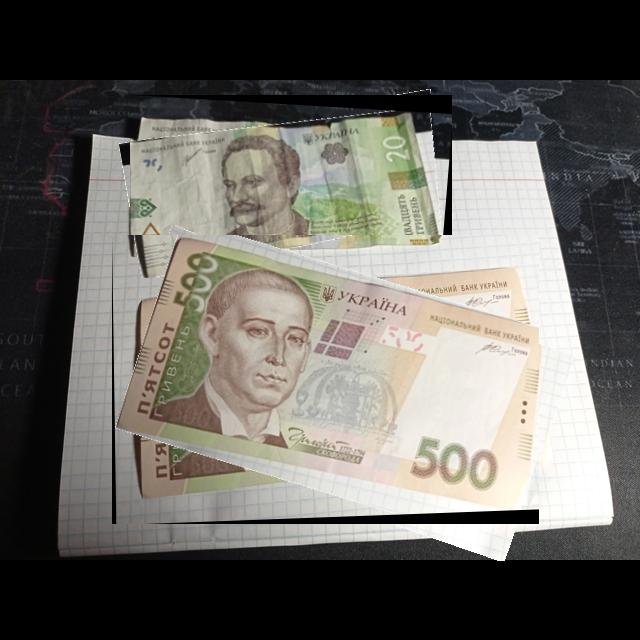20uah: (130, 109, 445, 280)
500uah: (116, 235, 540, 514)
